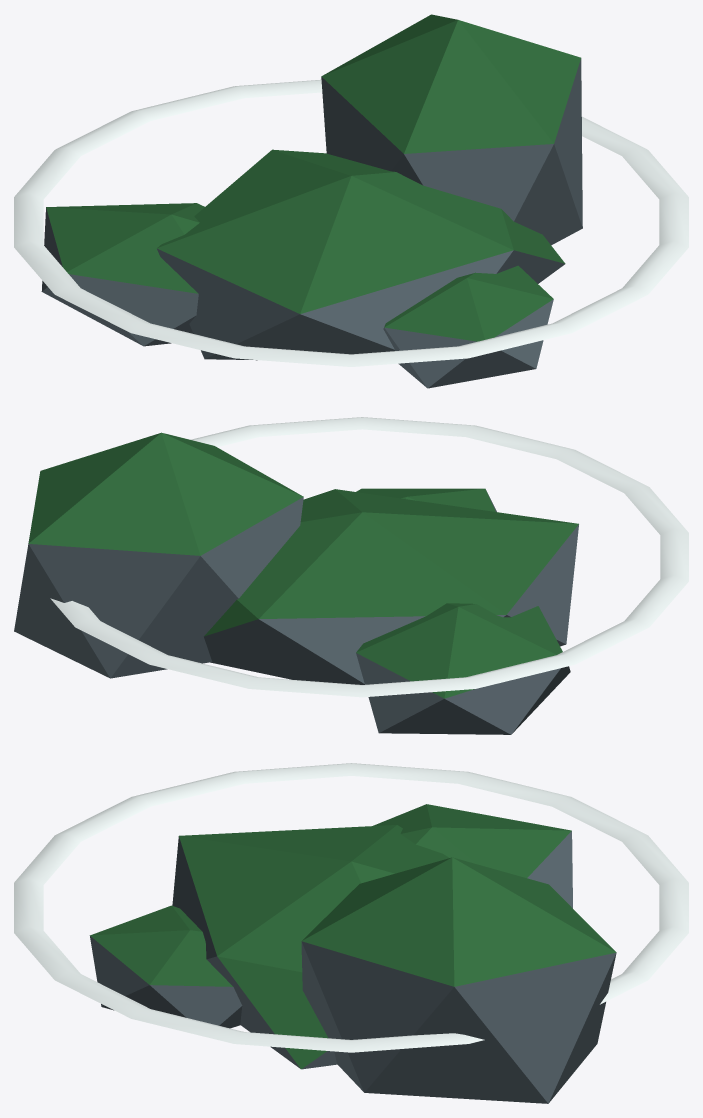
File: W2_Rock_C.fbx
3 views of the same model, one above another, from view 1: azimuth 30°, elevation 25°; view 2: azimuth 150°, elevation 25°; view 3: azimuth 270°, elevation 25° (orthographic). The views are drawn at different scales.
Visible parts, largest first — view 1: W2_Rock_C; view 2: W2_Rock_C; view 3: W2_Rock_C.
Boxes of the visible parts, bbox=[...] form: W2_Rock_C: bbox=[14, 14, 688, 388]; W2_Rock_C: bbox=[14, 417, 688, 734]; W2_Rock_C: bbox=[14, 763, 688, 1103].
Bounding box in the file's own units: 5.44 × 1.73 × 5.36.
